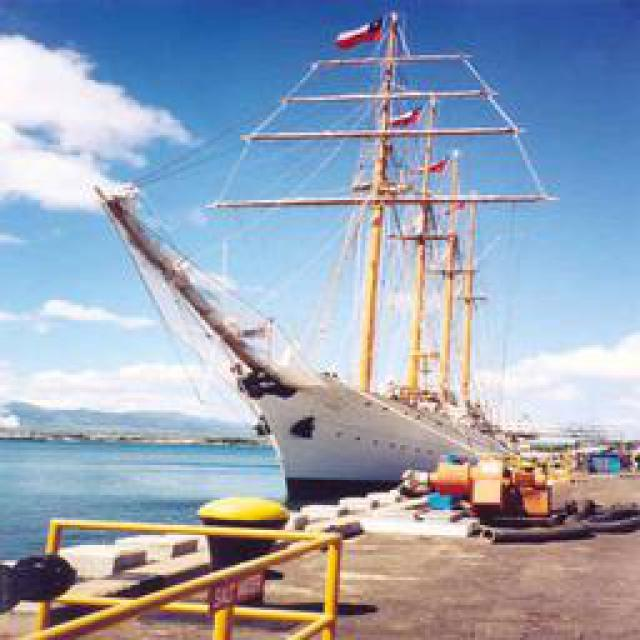Ship: (104, 56, 569, 506)
